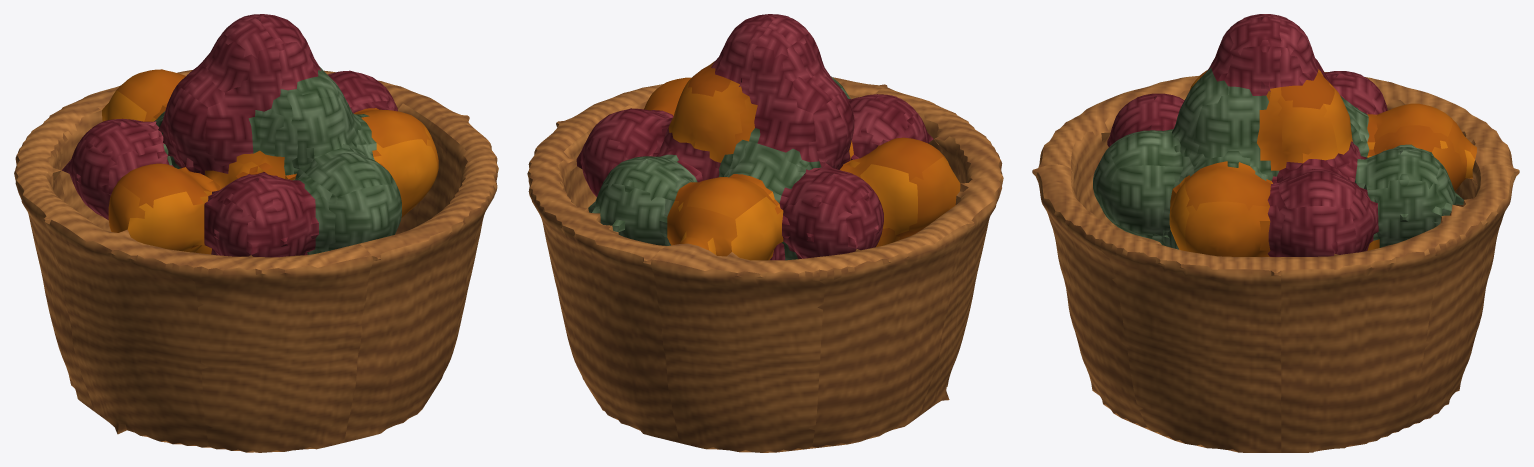
Rendered from prop_produce_basket.glb.
3 views of the same model, side by side, from view 1: azimuth 30°, elevation 25°; view 2: azimuth 150°, elevation 25°; view 3: azimuth 270°, elevation 25° (orthographic).
Parts seen in each view (by area): view 1: town_prop_produce_basket; view 2: town_prop_produce_basket; view 3: town_prop_produce_basket.
Boxes of the visible parts, bbox=[...] form: town_prop_produce_basket: bbox=[14, 14, 498, 452]; town_prop_produce_basket: bbox=[527, 14, 1003, 452]; town_prop_produce_basket: bbox=[1032, 14, 1519, 452].
Bounding box in the file's own units: 0.5698 × 0.4666 × 0.5698.
1 material, 1 textured.
